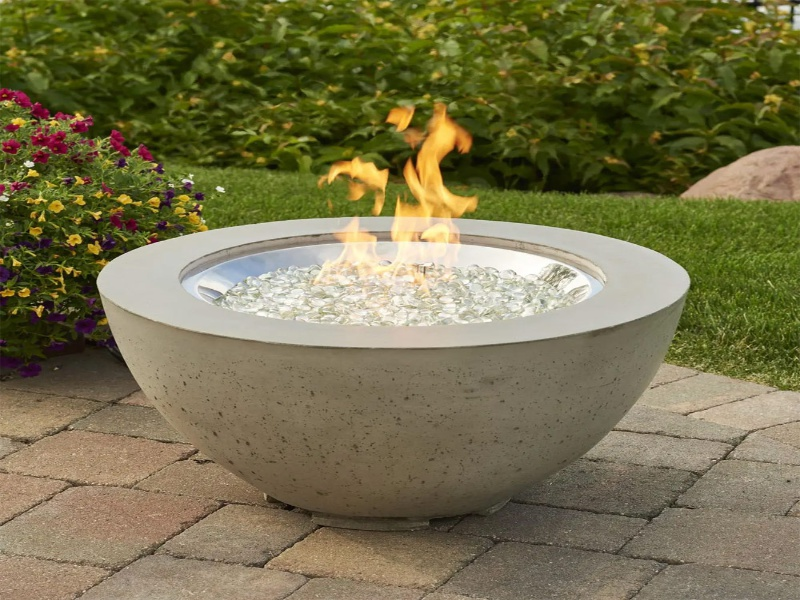fire: (391, 107, 475, 276), (320, 152, 392, 203), (339, 222, 376, 262)
